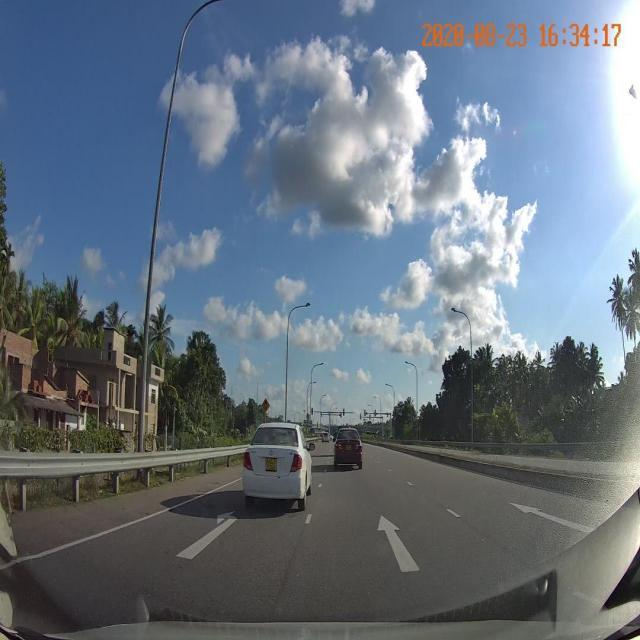Liniya 1: (12, 477, 240, 566), (443, 508, 466, 519), (303, 511, 314, 528)
Strelka vlevo: (176, 511, 238, 560)
Strelka vpered: (509, 503, 602, 533), (377, 516, 420, 572)
